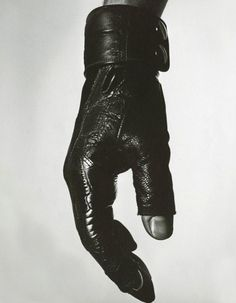gloves: (63, 6, 175, 303)
